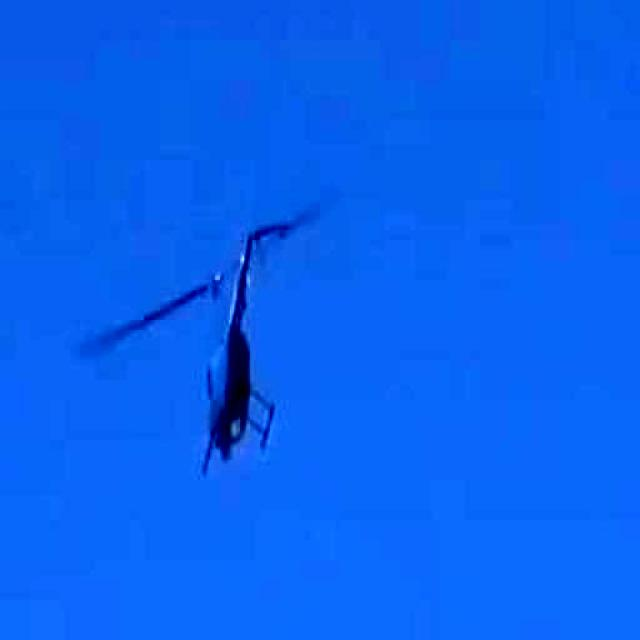drone: (100, 180, 342, 496)
